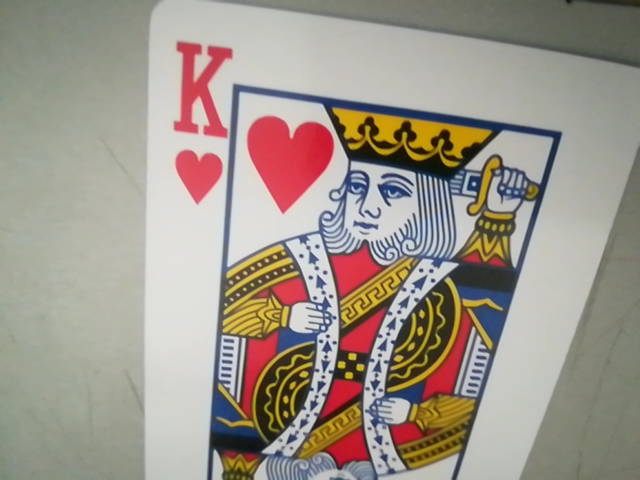hx k: (163, 41, 230, 209)
